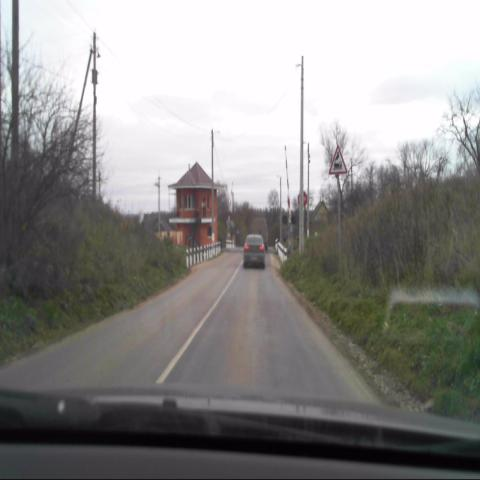1_2: (329, 143, 348, 175)
